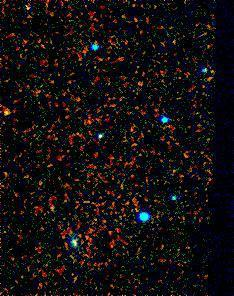star: (0, 96, 21, 126)
